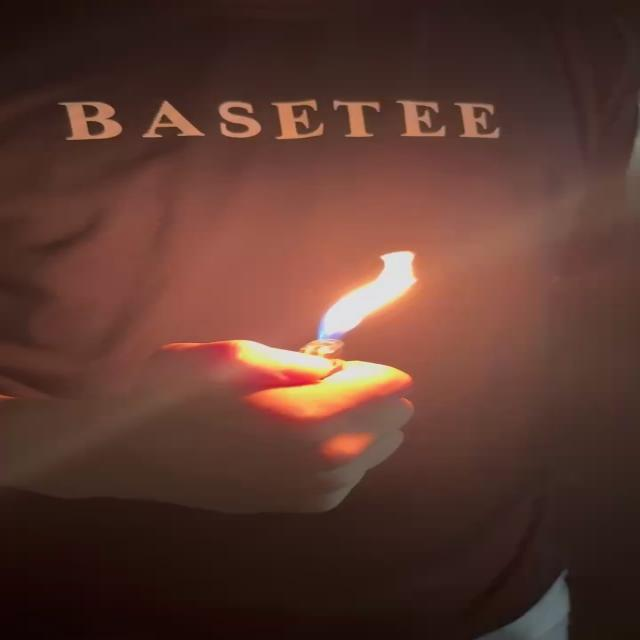Fire: (317, 250, 428, 343)
